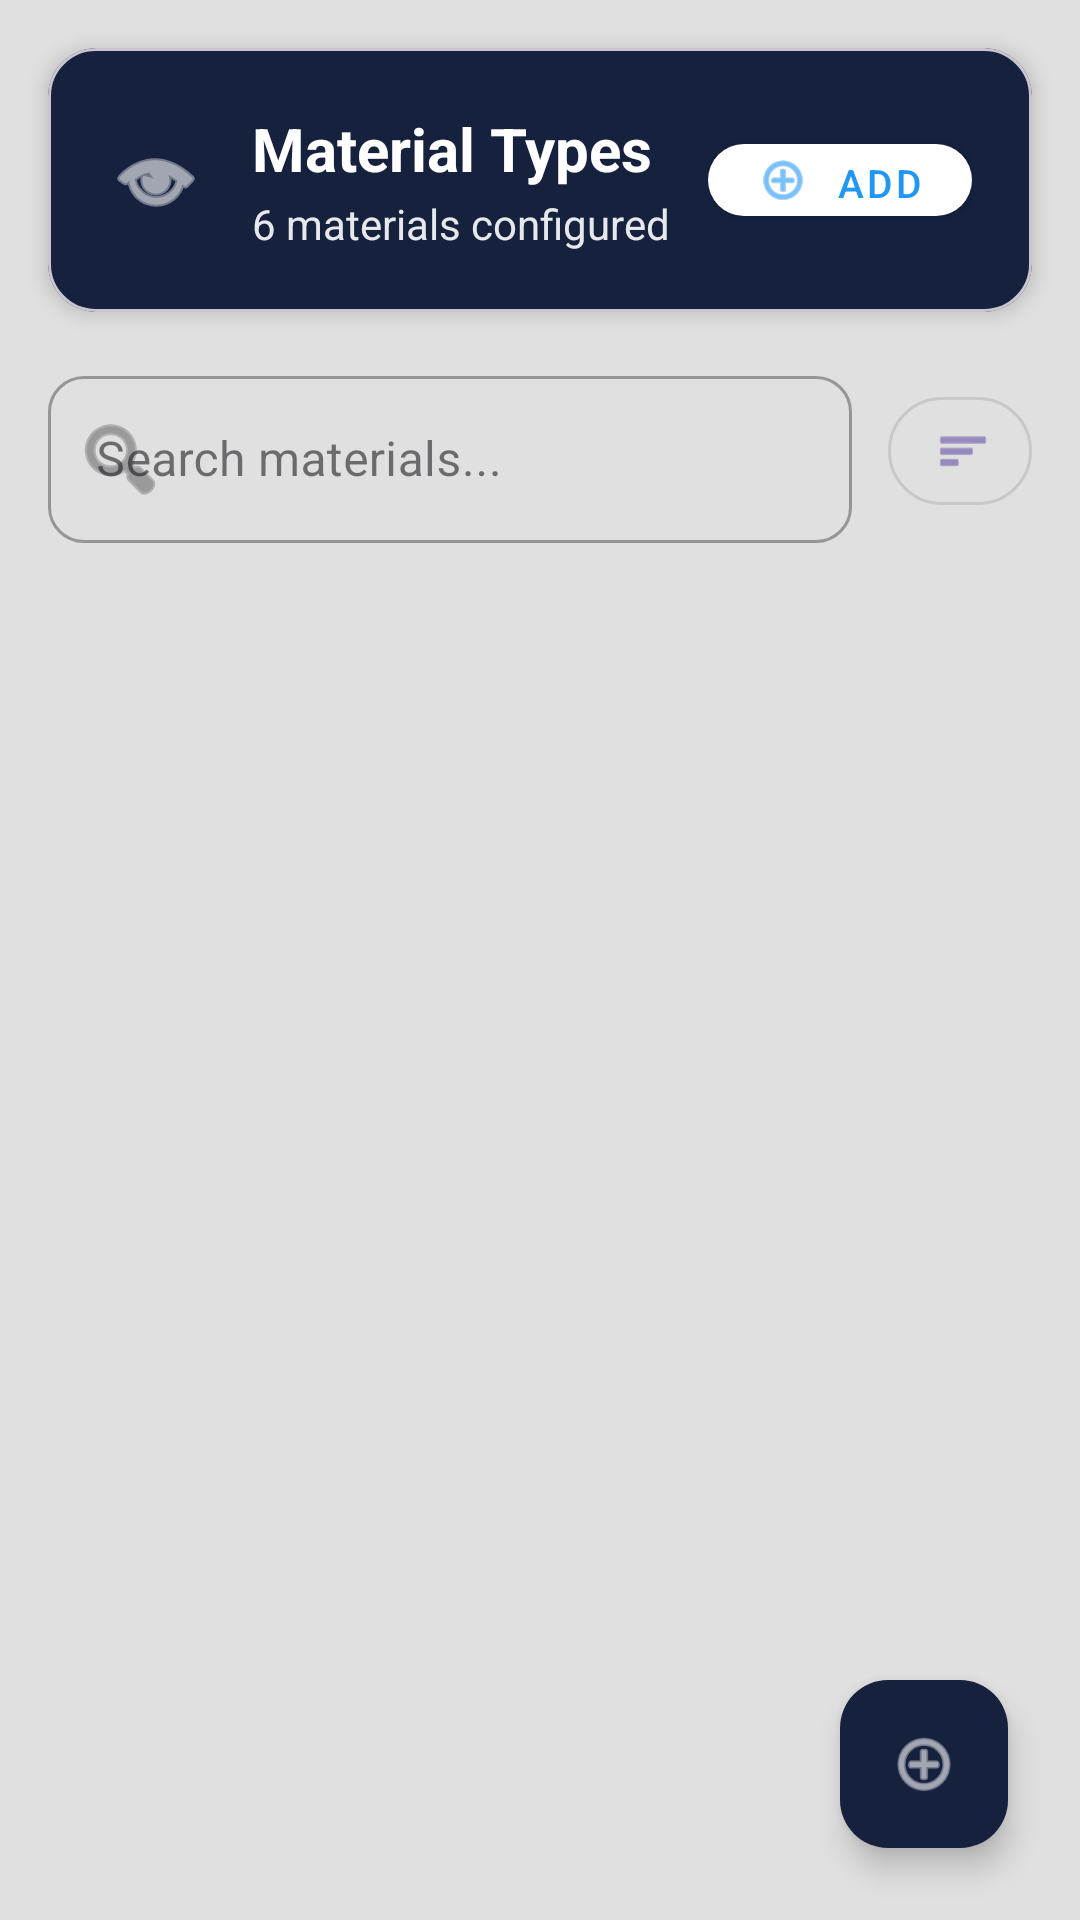

Icons on this 1080x1920 Android screen, each with its box as (x1, y1, x2, y2):
add: (840, 1680, 1008, 1848)
sort by size: (888, 424, 1032, 485)
view: (117, 158, 195, 207)
